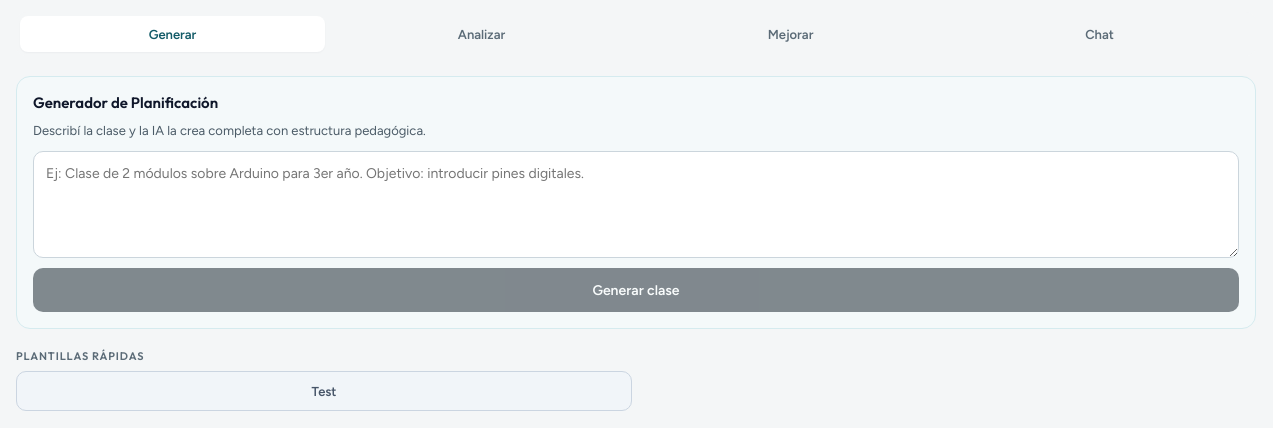
Test: AiSidebar › shows empty state in Analizar tab when no doc selected
Click the tab "Analizar" at {"x": 482, "y": 34}, box x1=329 y1=16 x2=634 y2=52
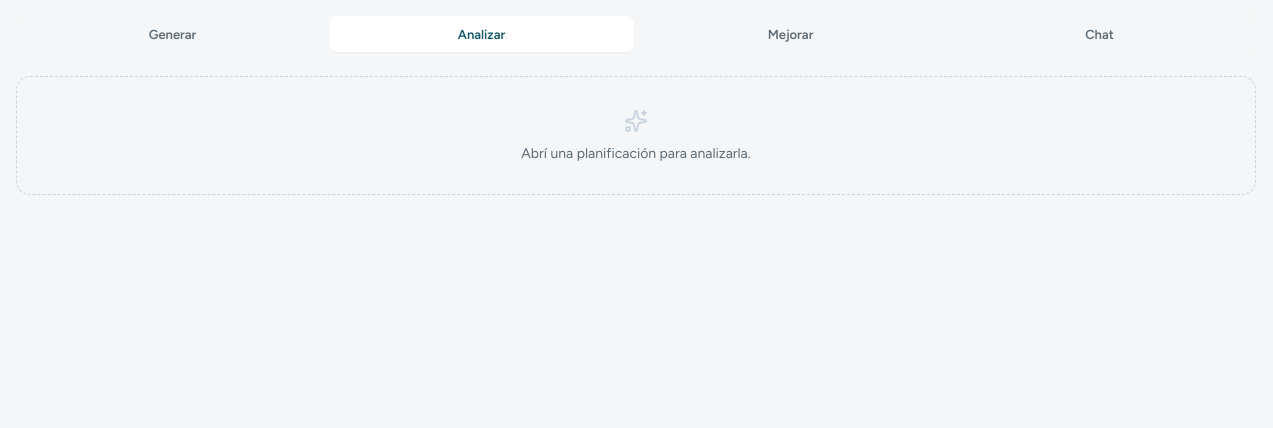
Expected: the text "Abrí una planificación para analizarla." is shown, x1=521 y1=145 x2=751 y2=162
